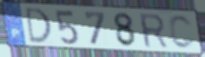5: (54, 8, 81, 46)
7: (83, 10, 107, 47)
8: (113, 12, 138, 48)
C: (167, 14, 196, 51)
D: (24, 6, 53, 45)
R: (137, 13, 170, 50)
